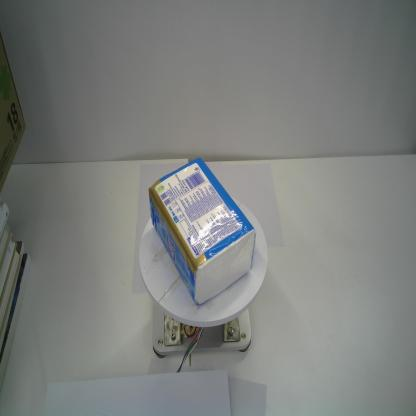Tissue: (148, 154, 257, 306)
